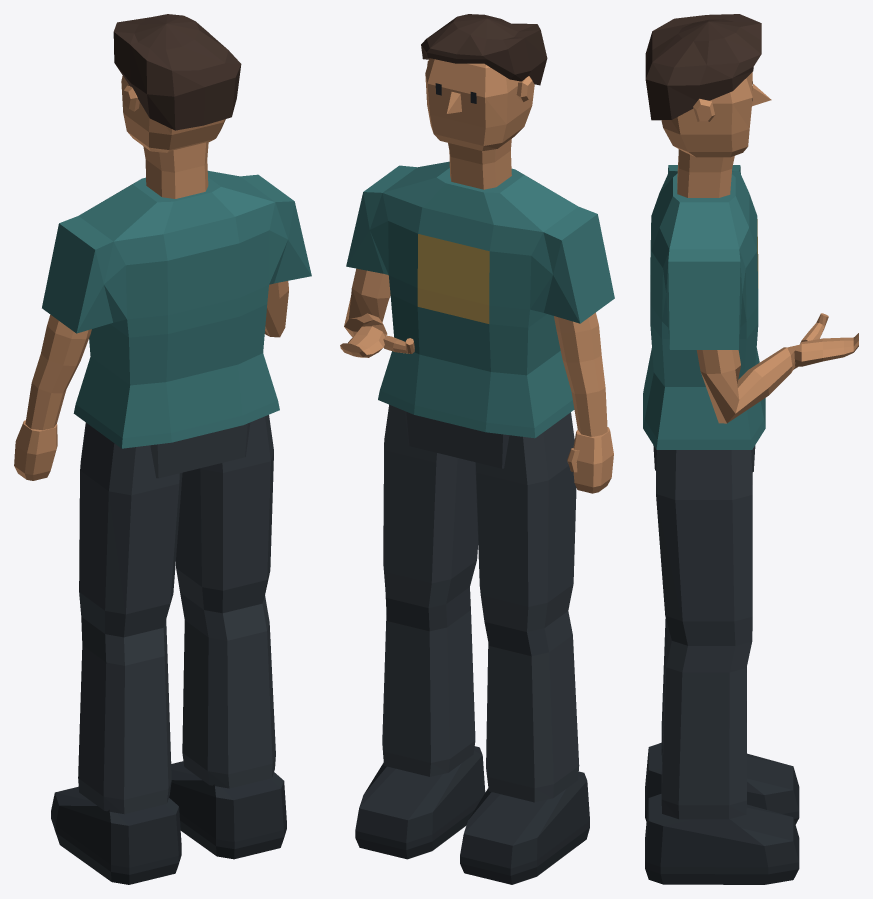
File: lwf_attendee_male_food_hold_v1.glb
3 renders of one model, left to right at view 1: azimuth 30°, elevation 25°; view 2: azimuth 150°, elevation 25°; view 3: azimuth 270°, elevation 25°, orthographic.
Parts seen in each view (by area): view 1: Attendee_male_food_hold; view 2: Attendee_male_food_hold; view 3: Attendee_male_food_hold.
Part boxes in pixels (x1,y1,x2,y2): Attendee_male_food_hold: [14, 14, 311, 884]; Attendee_male_food_hold: [340, 14, 614, 884]; Attendee_male_food_hold: [643, 14, 858, 884].
Bounding box in the file's own units: 0.5865 × 1.75 × 0.419.
1 material, 1 textured.
